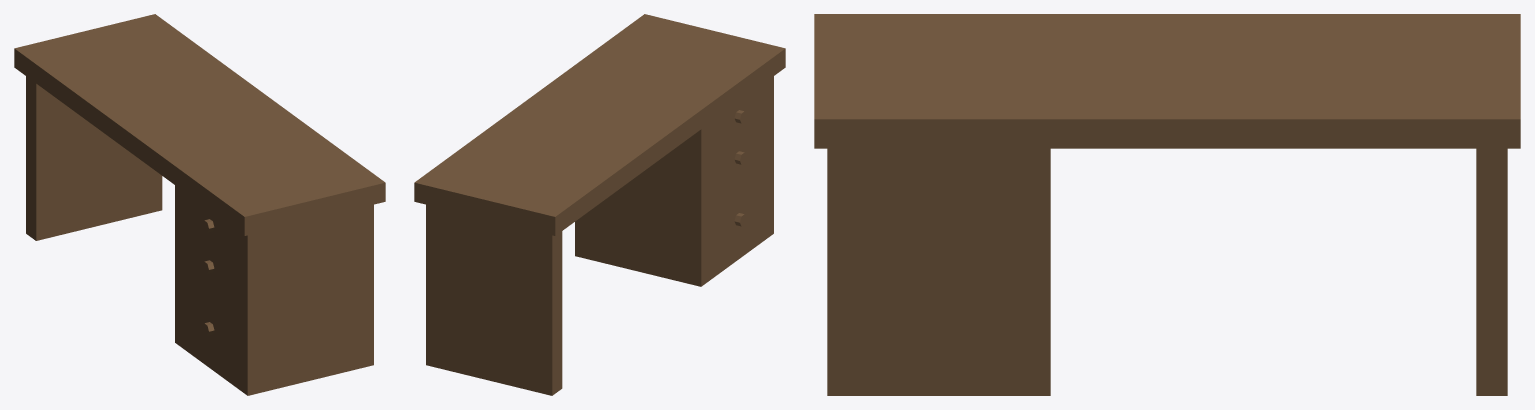
The model's file is ss-desk.lod2.glb.
3 views of the same model, side by side, from view 1: azimuth 30°, elevation 25°; view 2: azimuth 150°, elevation 25°; view 3: azimuth 270°, elevation 25° (orthographic). The views are drawn at different scales.
Parts seen in each view (by area): view 1: Mesh34_Color_M00_0; view 2: Mesh34_Color_M00_0; view 3: Mesh34_Color_M00_0.
Part boxes in pixels (bbox=[...]): Mesh34_Color_M00_0: bbox=[14, 14, 385, 395]; Mesh34_Color_M00_0: bbox=[414, 14, 785, 395]; Mesh34_Color_M00_0: bbox=[814, 14, 1520, 395].
Bounding box in the file's own units: 0.7269 × 0.9063 × 2.06.
